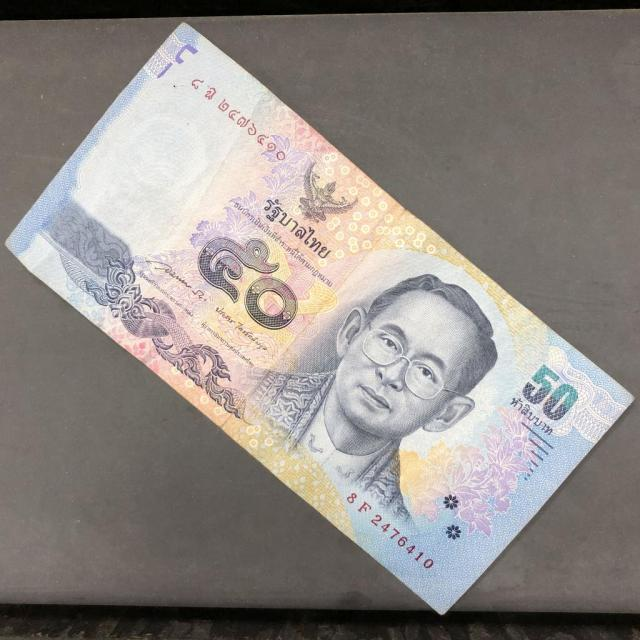THAI50: (6, 24, 631, 612)
